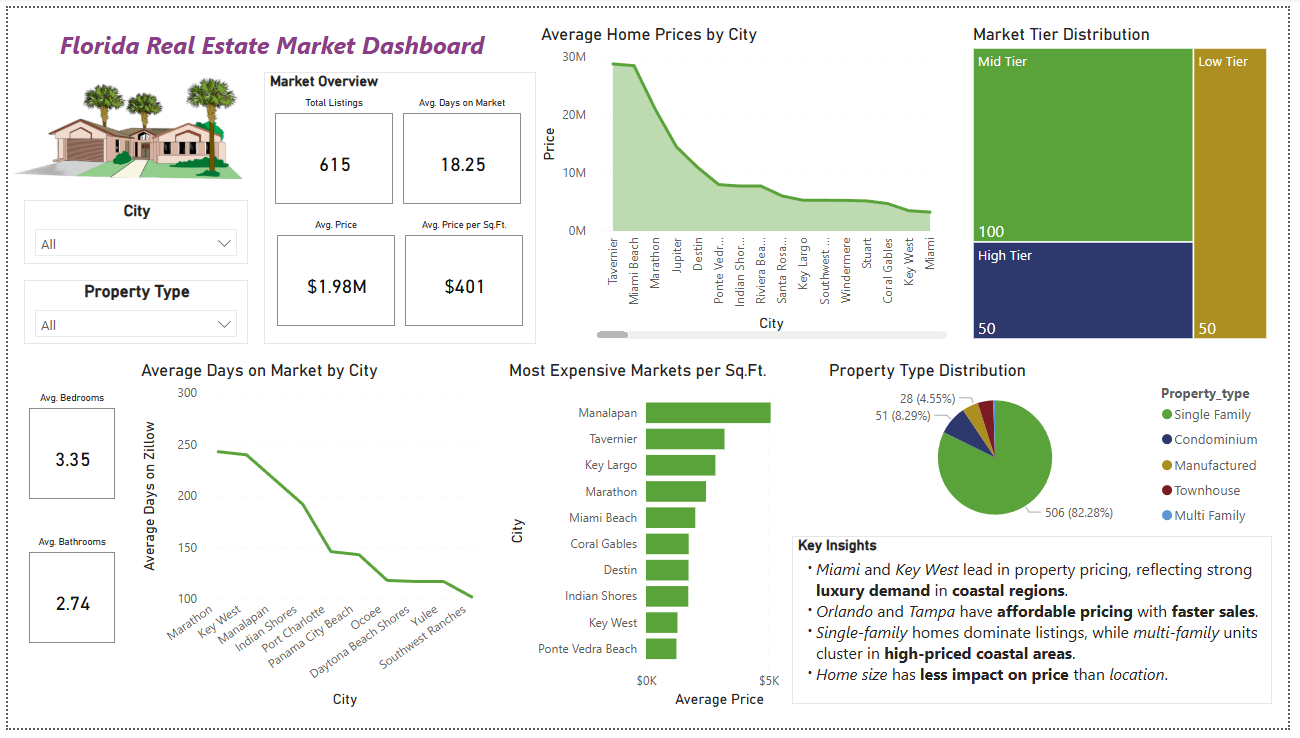

What the dashboard file says about the page in this screenshot:
{"tool":"powerbi","page":{"name":"Page 1","canvas":[1280,720],"ordinal":0},"visuals":[{"type":"areaChart","title":"Average Home Prices by City","fields":{"Category":["AvgPriceByCity.city"],"Y":["Sum(AvgPriceByCity.avg_price_by_city)"]},"box":[528,16,416,320],"z":0},{"type":"barChart","title":"Most Expensive Markets per Sq.Ft.","fields":{"Y":["Sum(PricePerSqFt.avg_price_per_sqft_by_city)","select"],"Category":["PricePerSqFt.city"]},"box":[496,352,304,352],"z":1000},{"type":"textbox","title":"Market Overview","box":[256,64,272,272],"z":2000},{"type":"pieChart","title":"Property Type Distribution","fields":{"Category":["PropertyTypeDist.Property_type"],"Y":["Sum(PropertyTypeDist.count_property_types)"]},"box":[816,352,448,176],"z":3000},{"type":"lineChart","title":"Average Days on Market by City","fields":{"Category":["AvgDaysOnZillow.city"],"Y":["Sum(AvgDaysOnZillow.avg_days_on_zillow_by_city)"]},"box":[128,352,352,352],"z":4000},{"type":"treemap","title":"Market Tier Distribution","fields":{"Group":["MarketTierSegmentation.price_tier"],"Values":["CountNonNull(MarketTierSegmentation.avg_prop_price)"]},"box":[960,16,304,320],"z":5000},{"type":"cardVisual","title":"Total Listings","fields":{"Data":["CountNonNull(zillow_properties_florida.Listing description)"]},"box":[262,88.9,128,112],"z":6000},{"type":"slicer","title":"City","fields":{"Values":["AvgPriceByCity.city"]},"box":[16,192,224,64],"z":7000},{"type":"cardVisual","title":"Avg. Bathrooms","fields":{"Data":["Avg(zillow_properties_florida.Bathrooms)"]},"box":[16,528,96,112],"z":8000},{"type":"cardVisual","title":"Avg. Price","fields":{"Data":["Avg(zillow_properties_florida.Property price (USD))"]},"box":[263.6,210.7,128,112],"z":9000},{"type":"image","box":[0,64,240,112],"z":10000},{"type":"textbox","title":"Key Insights","box":[784,528,480,176],"z":11000},{"type":"cardVisual","title":"Avg. Days on Market","fields":{"Data":["Avg(zillow_properties_florida.Number of days on Zillow)"]},"box":[390,88.9,128,112],"z":12000},{"type":"textbox","box":[16,16,496,48],"z":13000},{"type":"slicer","title":"Property Type","fields":{"Values":["PropertyTypeDist.Property_type"]},"box":[16,272,224,64],"z":14000},{"type":"cardVisual","title":"Avg. Price per Sq.Ft.","fields":{"Data":["Avg(PricePerSqFt.avg_price_per_sqft_by_city)"]},"box":[391.6,210.7,128,112],"z":15000},{"type":"cardVisual","title":"Avg. Bedrooms","fields":{"Data":["Avg(zillow_properties_florida.Bedrooms)"]},"box":[16,384,96,112],"z":16000}]}

Visuals, with their boxes in screenshot pixels (x1, y1, x2, y2), scaled from the page's 1280x720 canvas onto the 1300x738 screenshot:
"Average Home Prices by City" areaChart: [536,16,959,344]
"Most Expensive Markets per Sq.Ft." barChart: [504,361,812,722]
"Market Overview" textbox: [260,66,536,344]
"Property Type Distribution" pieChart: [829,361,1284,541]
"Average Days on Market by City" lineChart: [130,361,488,722]
"Market Tier Distribution" treemap: [975,16,1284,344]
"Total Listings" cardVisual: [266,91,396,206]
"City" slicer: [16,197,244,262]
"Avg. Bathrooms" cardVisual: [16,541,114,656]
"Avg. Price" cardVisual: [268,216,398,331]
image: [0,66,244,180]
"Key Insights" textbox: [796,541,1284,722]
"Avg. Days on Market" cardVisual: [396,91,526,206]
textbox: [16,16,520,66]
"Property Type" slicer: [16,279,244,344]
"Avg. Price per Sq.Ft." cardVisual: [398,216,528,331]
"Avg. Bedrooms" cardVisual: [16,394,114,508]
